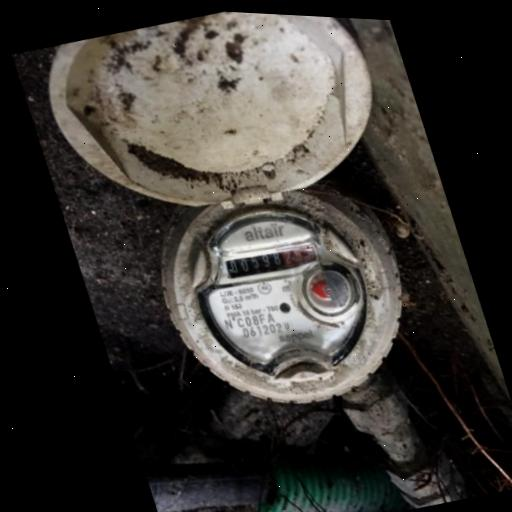0: (224, 257, 244, 279), (236, 256, 254, 278)
2: (281, 250, 297, 270)
5: (246, 254, 264, 276), (291, 247, 308, 267)
8: (269, 250, 288, 273), (302, 245, 318, 263)
9: (257, 251, 276, 274)
border_water_meter_number: (218, 231, 325, 292)
